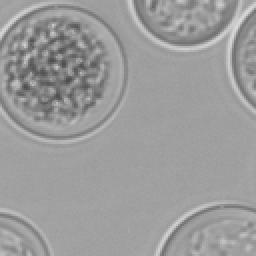picoshell: (0, 2, 126, 142), (126, 0, 242, 50), (154, 202, 254, 254), (226, 2, 254, 114), (0, 206, 52, 254)
